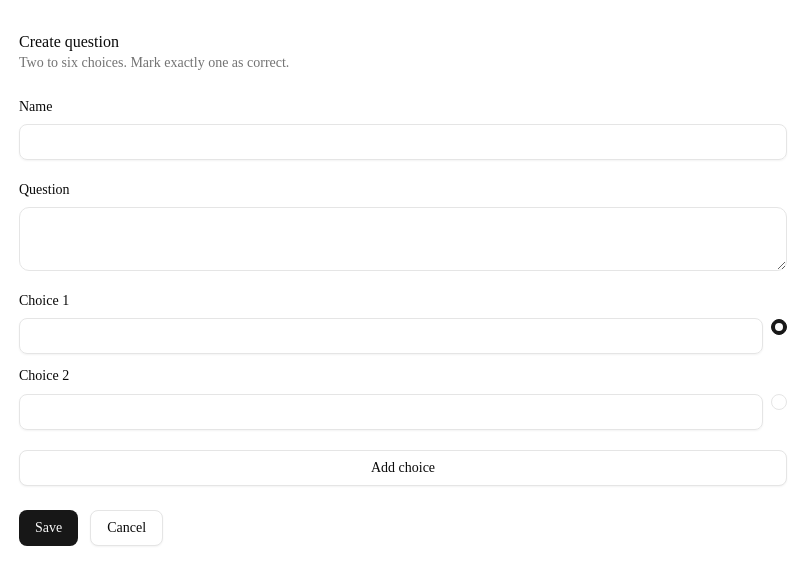
Test: create question page › shows server validation errors on the form
The image size is (807, 583).
In the field labelled "Name": coordinates (403, 142) [19,124,787,160], type "Cell membrane"
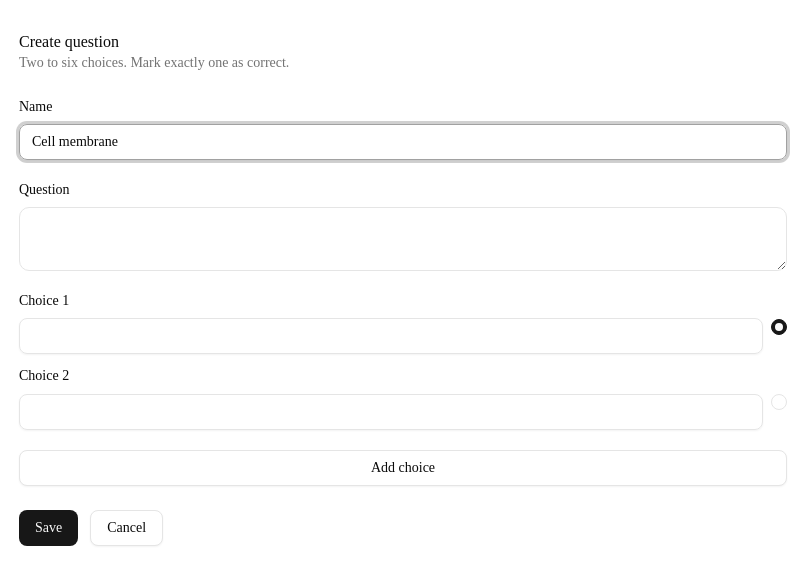
In the text box labelled "Question": coordinates (403, 239) [19,207,787,271], type "What is the main function of the cell membrane?"
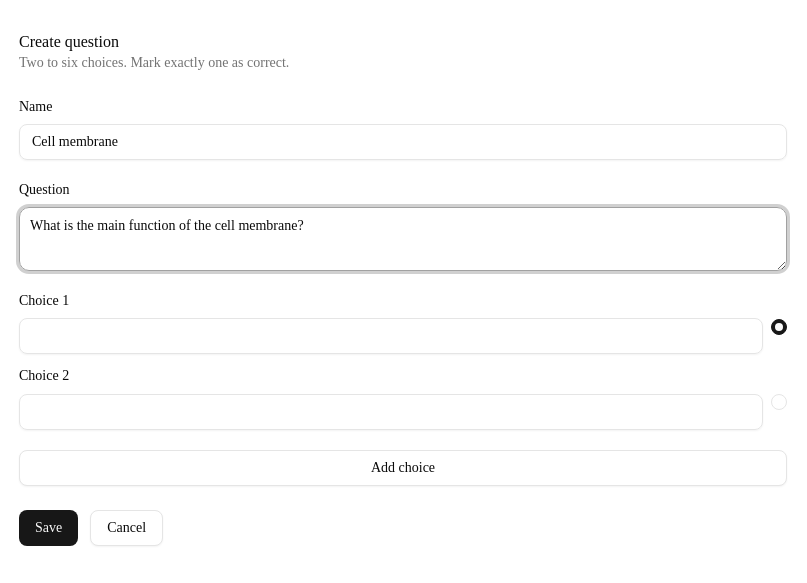
In the field labelled "Choice 1": coordinates (391, 336) [19,318,763,354], type "Option A"
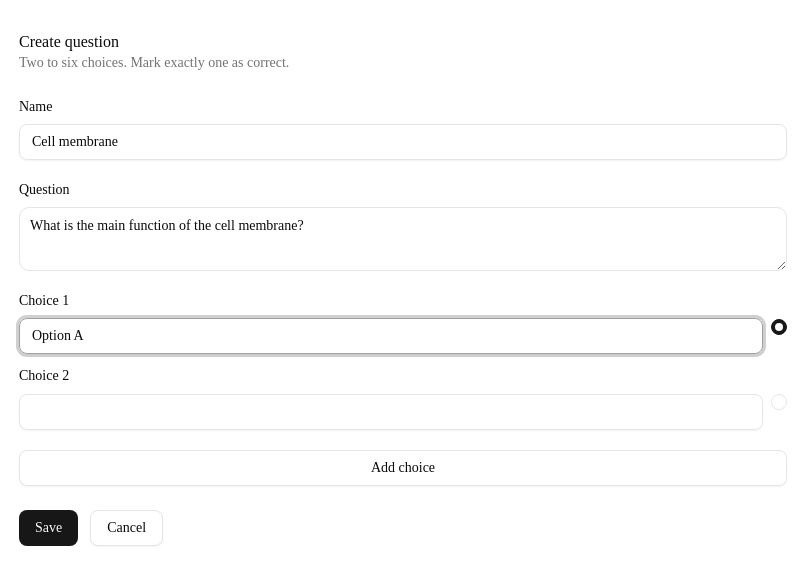
In the field labelled "Choice 2": coordinates (391, 412) [19,394,763,430], type "Option B"
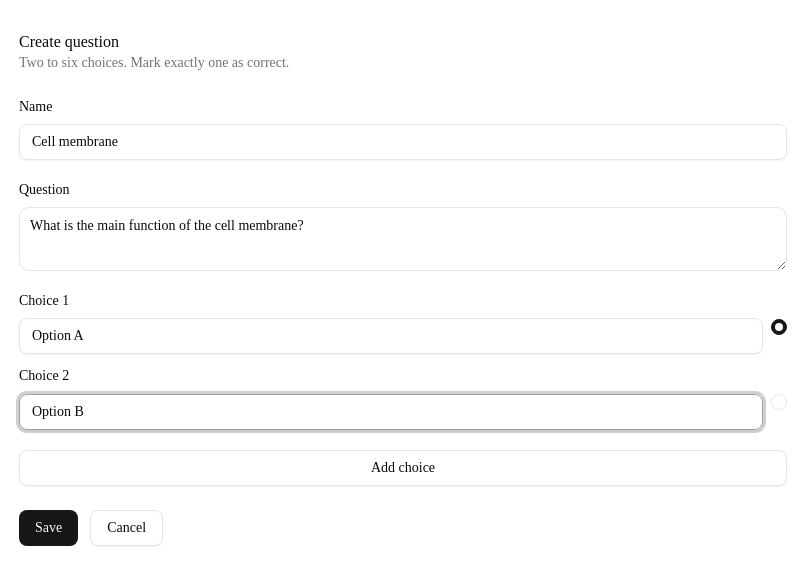
Click the button "Save": coordinates (49, 528) [19,510,78,546]
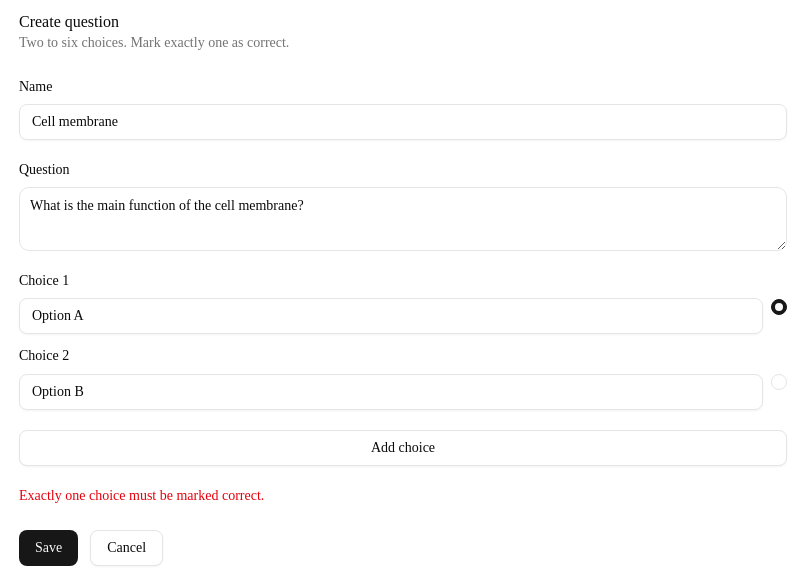
Expected: the text "Exactly one choice must be marked correct." is shown, [19,488,264,502]
